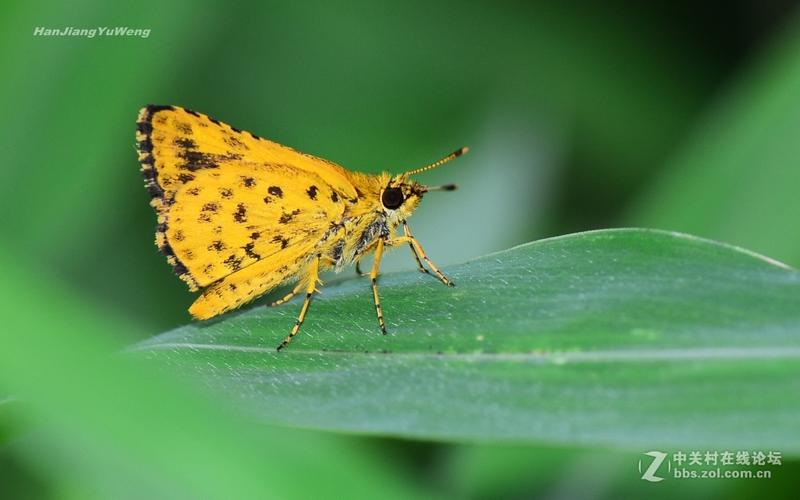Hesperiidae: (132, 102, 474, 350)
